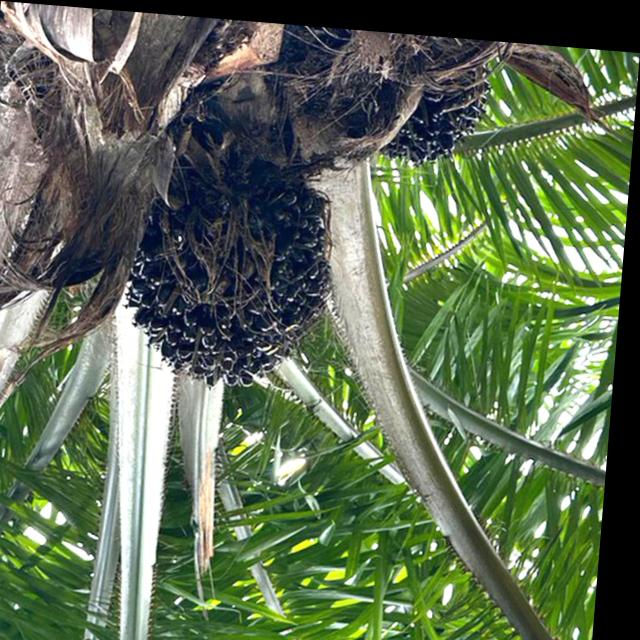unripe: (123, 153, 343, 394), (369, 40, 500, 166)
